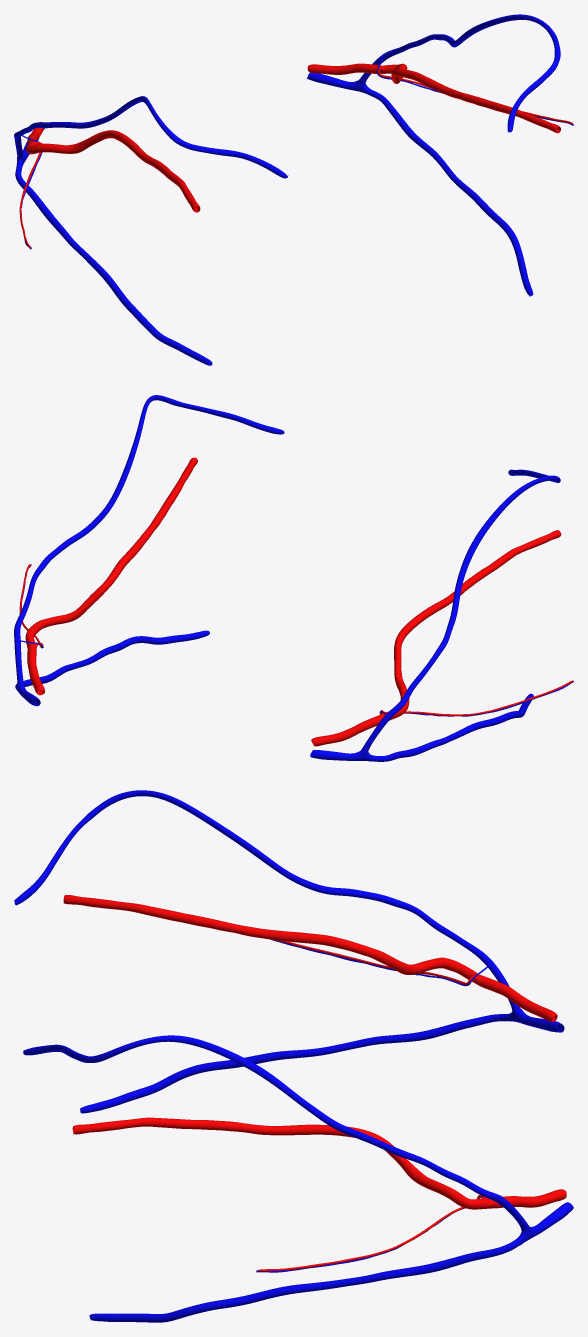
The model's file is VH_F_Blood_Vasculature_Eye.glb.
3 views of the same model, one above another, from view 1: azimuth 30°, elevation 25°; view 2: azimuth 150°, elevation 25°; view 3: azimuth 270°, elevation 25° (orthographic). The views are drawn at different scales.
Visible parts, largest first — view 1: VH_F_opthalmic_artery_L, VH_F_inferior_ophthalmic_vein_R, VH_F_superior_ophthalmic_vein_R, VH_F_superior_ophthalmic_vein_L, VH_F_opthalmic_artery_R, VH_F_inferior_ophthalmic_vein_L, VH_F_ophthalmic_vein_L; view 2: VH_F_superior_ophthalmic_vein_L, VH_F_opthalmic_artery_R, VH_F_opthalmic_artery_L, VH_F_superior_ophthalmic_vein_R, VH_F_inferior_ophthalmic_vein_L, VH_F_inferior_ophthalmic_vein_R, VH_F_ophthalmic_vein_R; view 3: VH_F_opthalmic_artery_R, VH_F_opthalmic_artery_L, VH_F_superior_ophthalmic_vein_R, VH_F_superior_ophthalmic_vein_L, VH_F_inferior_ophthalmic_vein_L, VH_F_inferior_ophthalmic_vein_R, VH_F_ophthalmic_vein_L.
Boxes of the visible parts, x1,y1,x2,y2 form: VH_F_opthalmic_artery_L: (307,63,560,132); VH_F_inferior_ophthalmic_vein_R: (15,165,212,365); VH_F_superior_ophthalmic_vein_R: (14,96,288,178); VH_F_superior_ophthalmic_vein_L: (357,14,560,132); VH_F_opthalmic_artery_R: (25,122,200,212); VH_F_inferior_ophthalmic_vein_L: (365,89,533,296); VH_F_ophthalmic_vein_L: (307,72,369,93); VH_F_superior_ophthalmic_vein_L: (14,395,284,684); VH_F_opthalmic_artery_R: (311,530,561,746); VH_F_opthalmic_artery_L: (25,457,197,694); VH_F_superior_ophthalmic_vein_R: (360,469,560,752); VH_F_inferior_ophthalmic_vein_L: (15,630,209,688); VH_F_inferior_ophthalmic_vein_R: (372,693,533,761); VH_F_ophthalmic_vein_R: (310,750,373,761); VH_F_opthalmic_artery_R: (63,895,557,1021); VH_F_opthalmic_artery_L: (73,1117,566,1209); VH_F_superior_ophthalmic_vein_R: (14,790,521,1013); VH_F_superior_ophthalmic_vein_L: (23,1035,530,1231); VH_F_inferior_ophthalmic_vein_L: (89,1238,520,1322); VH_F_inferior_ophthalmic_vein_R: (80,1013,510,1113); VH_F_ophthalmic_vein_L: (518,1202,573,1244).
Size of the model in its own units: 0.0757 by 0.0348 by 0.0554.
